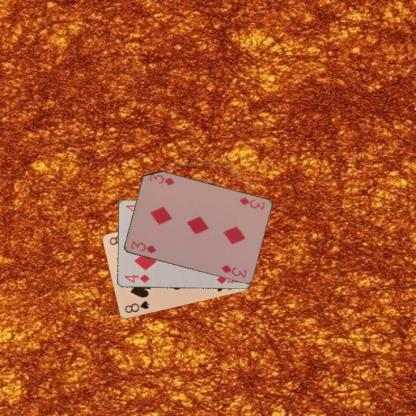3d: (236, 194, 266, 212), (128, 238, 157, 255)
4d: (122, 272, 150, 284)
8s: (122, 299, 150, 314)
